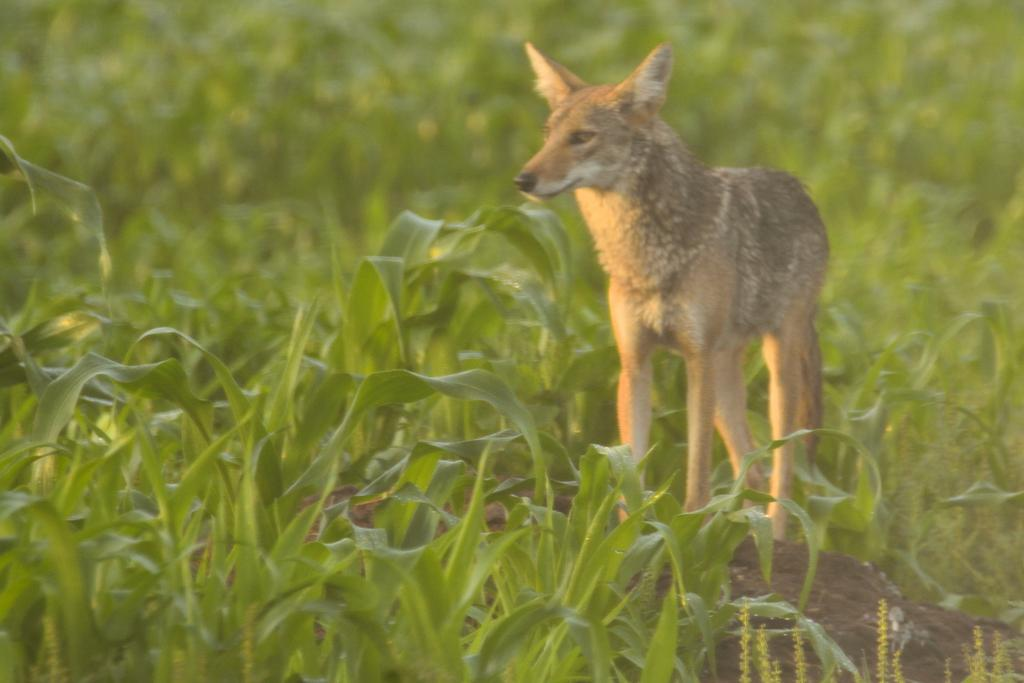Coyote: (508, 38, 835, 543)
